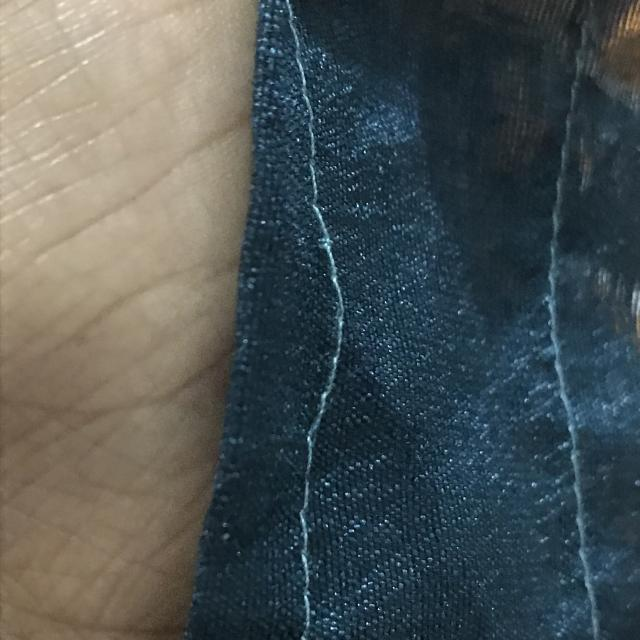skip: (296, 188, 380, 472)
